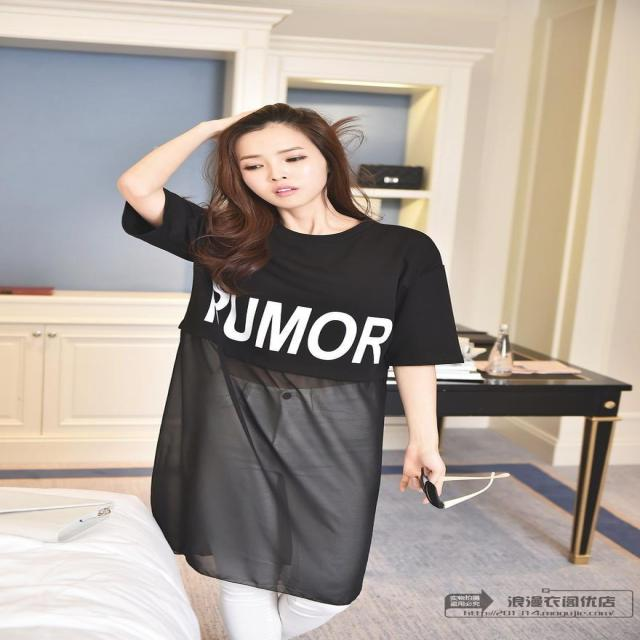short-sleeve-top: (153, 182, 517, 402)
